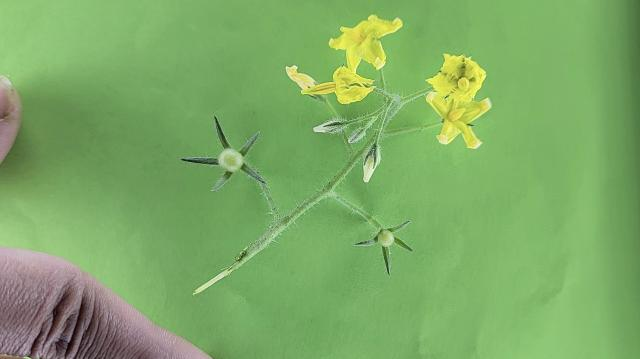Anthesis: (328, 12, 404, 76), (427, 92, 491, 149), (301, 63, 374, 108), (427, 52, 487, 104), (284, 64, 317, 92)
Flower Bud: (362, 141, 380, 184), (347, 123, 370, 144), (314, 119, 346, 133)
Fruit Bud: (218, 148, 244, 172), (377, 229, 395, 248)
